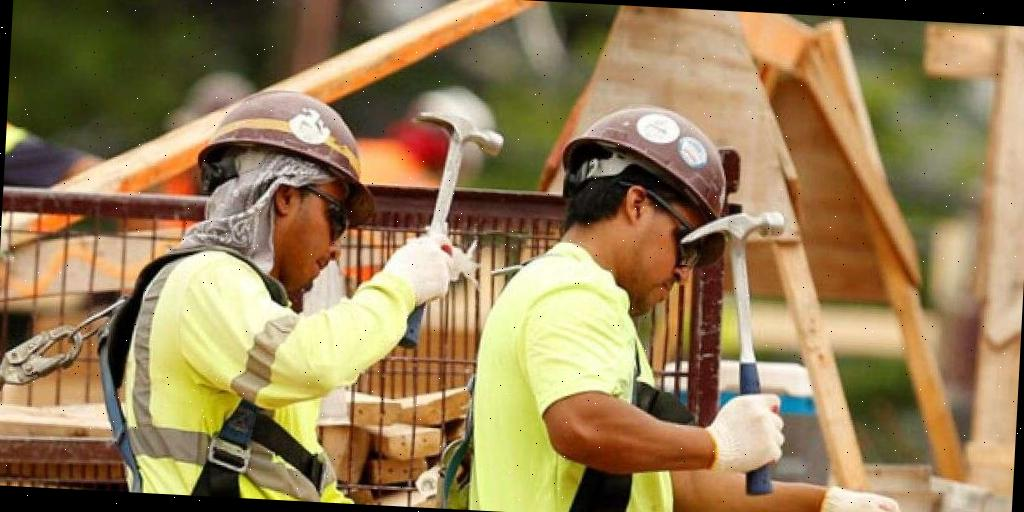helmet: (192, 85, 382, 230), (554, 98, 732, 224)
wear: (112, 265, 348, 502)
